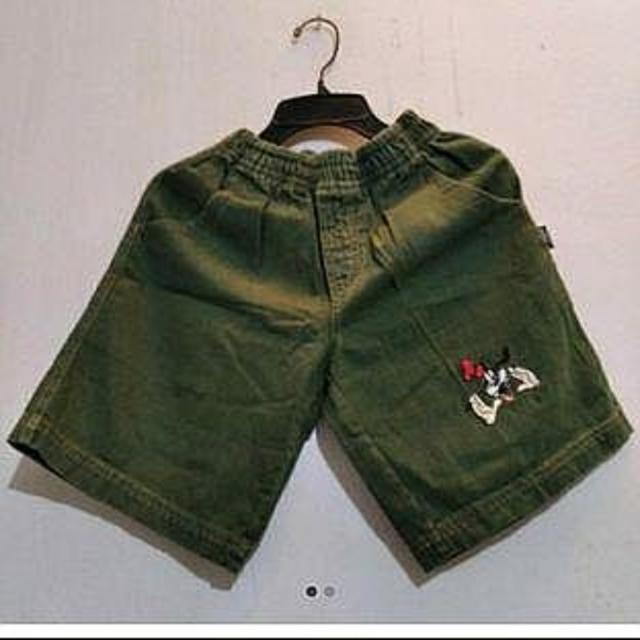SHORT: (7, 107, 639, 606)
